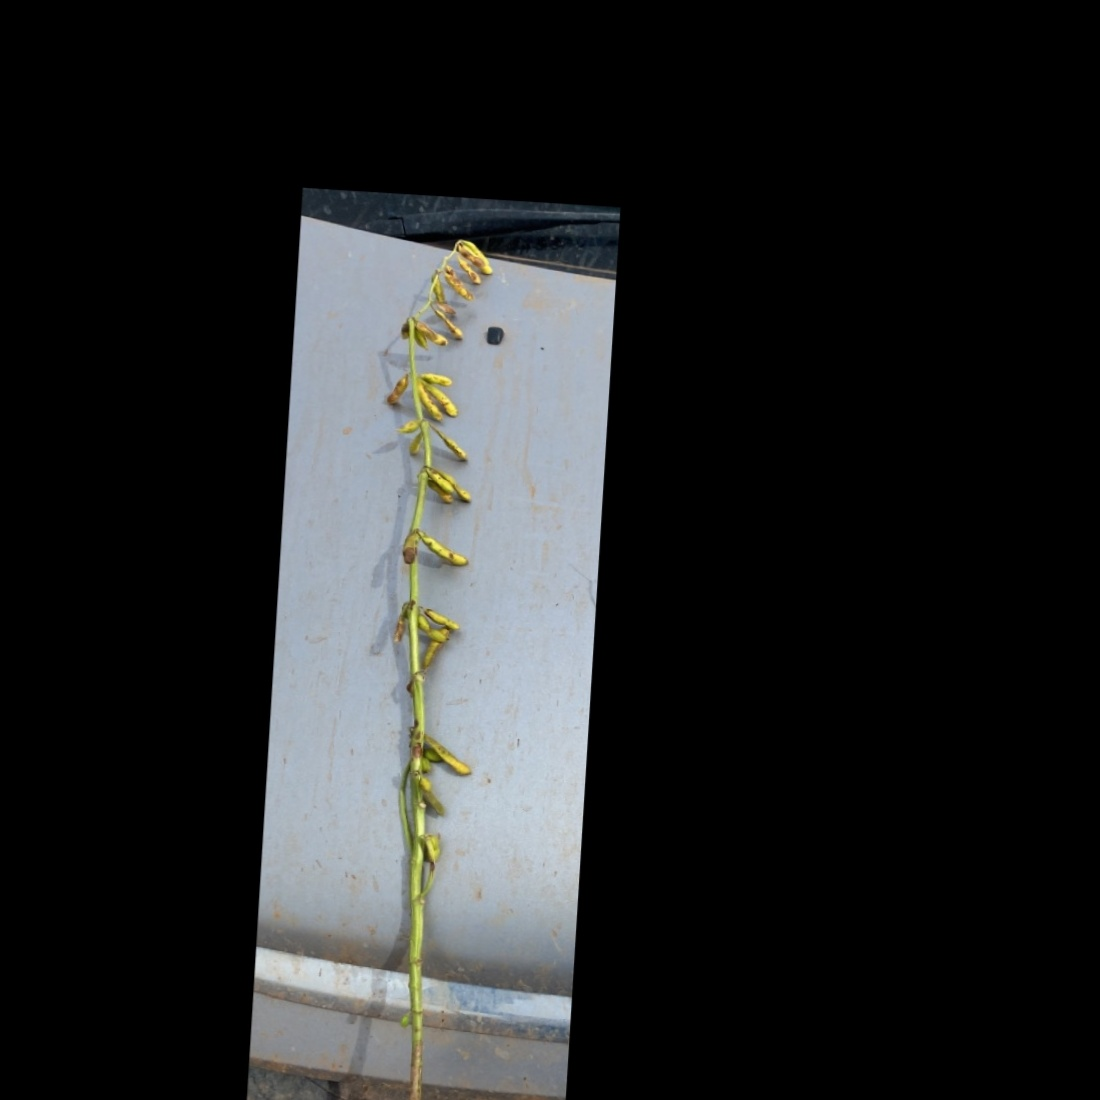pod: (414, 529, 475, 571), (421, 468, 480, 507), (427, 425, 479, 463), (409, 381, 448, 427), (423, 377, 462, 420), (427, 307, 466, 342), (408, 317, 450, 347), (452, 255, 487, 289), (382, 369, 411, 408), (422, 469, 460, 496), (430, 273, 451, 312), (418, 370, 460, 385), (404, 430, 425, 458)
soy: (315, 220, 523, 1100)
